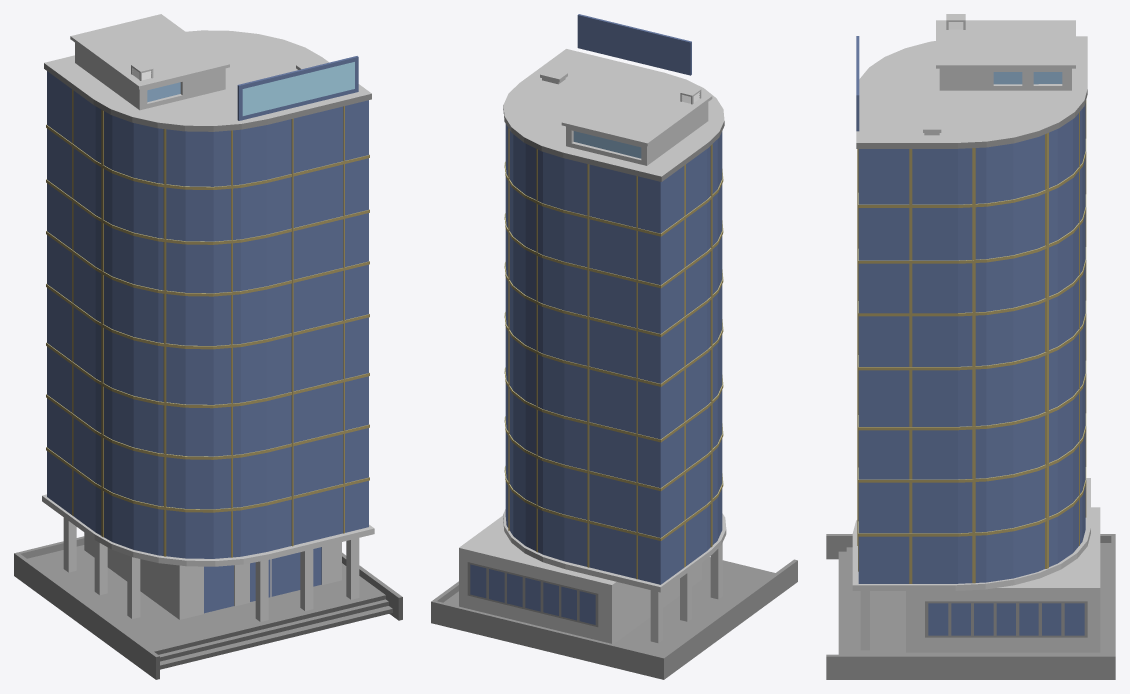
The model's file is business_center_001.fbx.
3 renders of one model, left to right at view 1: azimuth 30°, elevation 25°; view 2: azimuth 150°, elevation 25°; view 3: azimuth 270°, elevation 25°, orthographic. The views are drawn at different scales.
Visible parts, largest first — view 1: business_center_001; view 2: business_center_001; view 3: business_center_001.
Part boxes in pixels (left/top/right/bottom): business_center_001: left=14, top=14, right=402, bottom=679; business_center_001: left=431, top=14, right=797, bottom=679; business_center_001: left=826, top=14, right=1115, bottom=679.
Size of the model in its own units: 1444 by 3129 by 1439.
